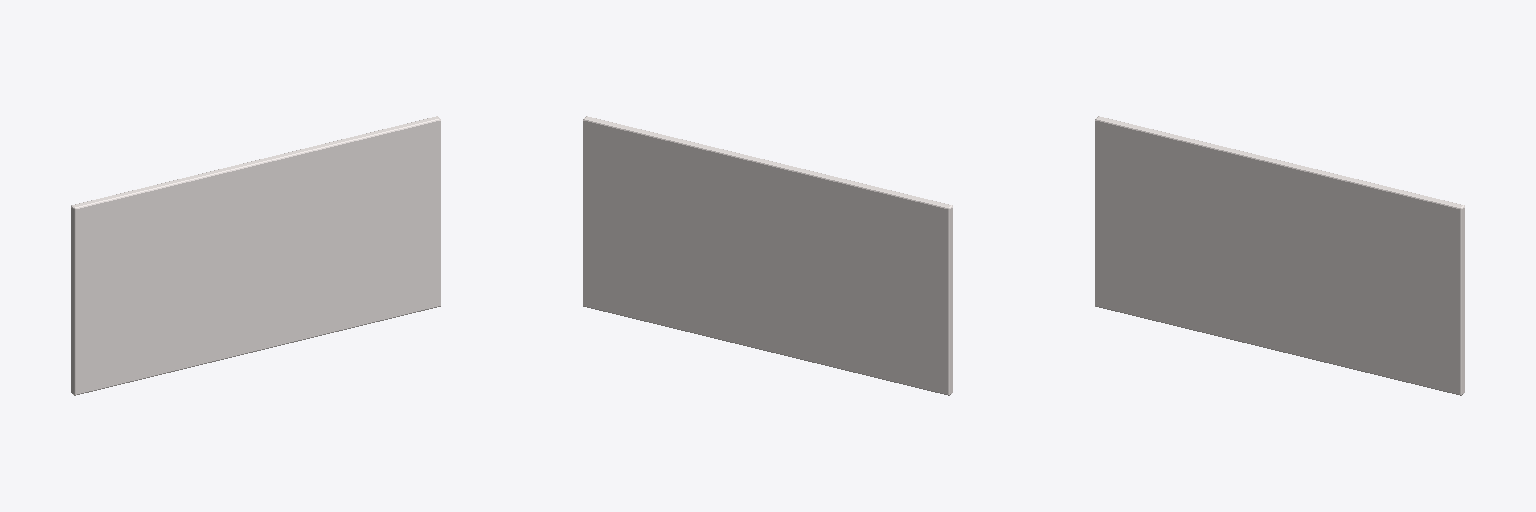
The picture shows the model from 3 angles: view 1: azimuth 30°, elevation 25°; view 2: azimuth 150°, elevation 25°; view 3: azimuth 330°, elevation 25°; orthographic projection.
Size of the model in its own units: 0.6209 by 0.3041 by 0.0131.
1 materials, 1 textured.